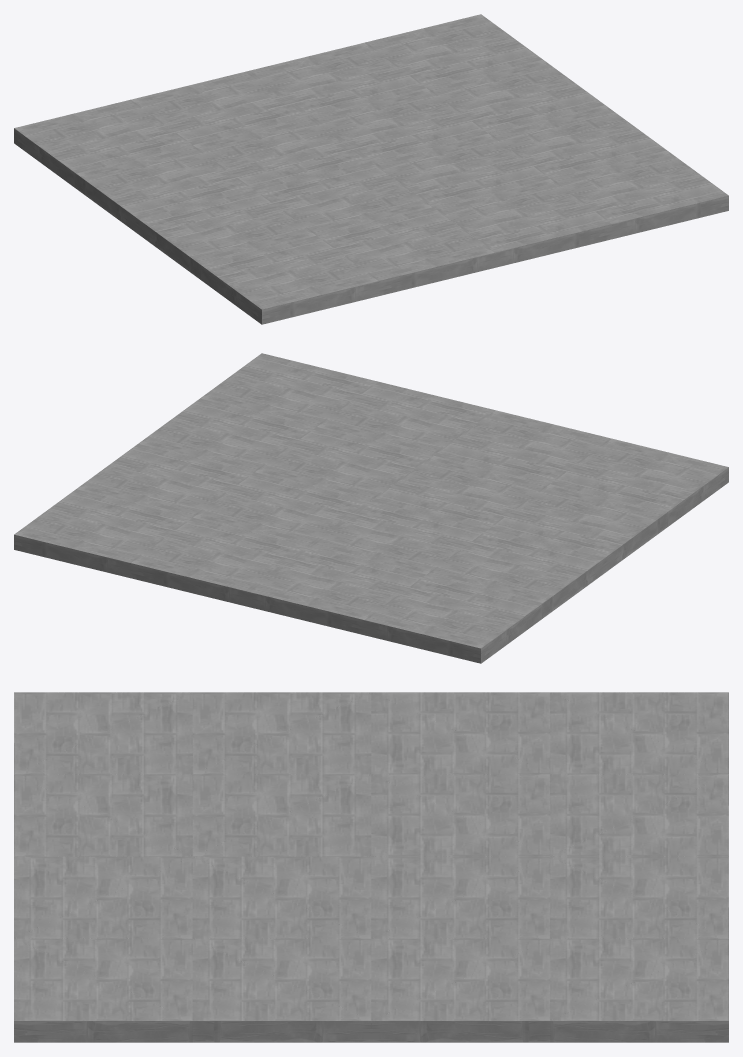
Rendered from SM_Floor.fbx.
The picture shows the model from 3 angles, top to bottom: view 1: azimuth 30°, elevation 25°; view 2: azimuth 150°, elevation 25°; view 3: azimuth 270°, elevation 25°; orthographic projection. The views are drawn at different scales.
Visible parts, largest first — view 1: SM_Floor; view 2: SM_Floor; view 3: SM_Floor.
Part boxes in pixels (x1,y1,x2,y2): SM_Floor: [14, 14, 728, 324]; SM_Floor: [14, 353, 728, 663]; SM_Floor: [14, 692, 728, 1042].
Bounding box in the file's own units: 896 × 27.79 × 823.
